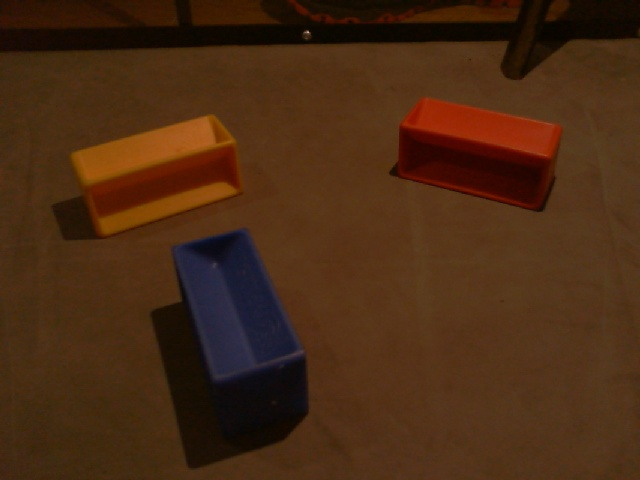BlueSample: (170, 225, 310, 438)
RedSample: (395, 95, 564, 222)
YellowSample: (67, 111, 244, 241)
